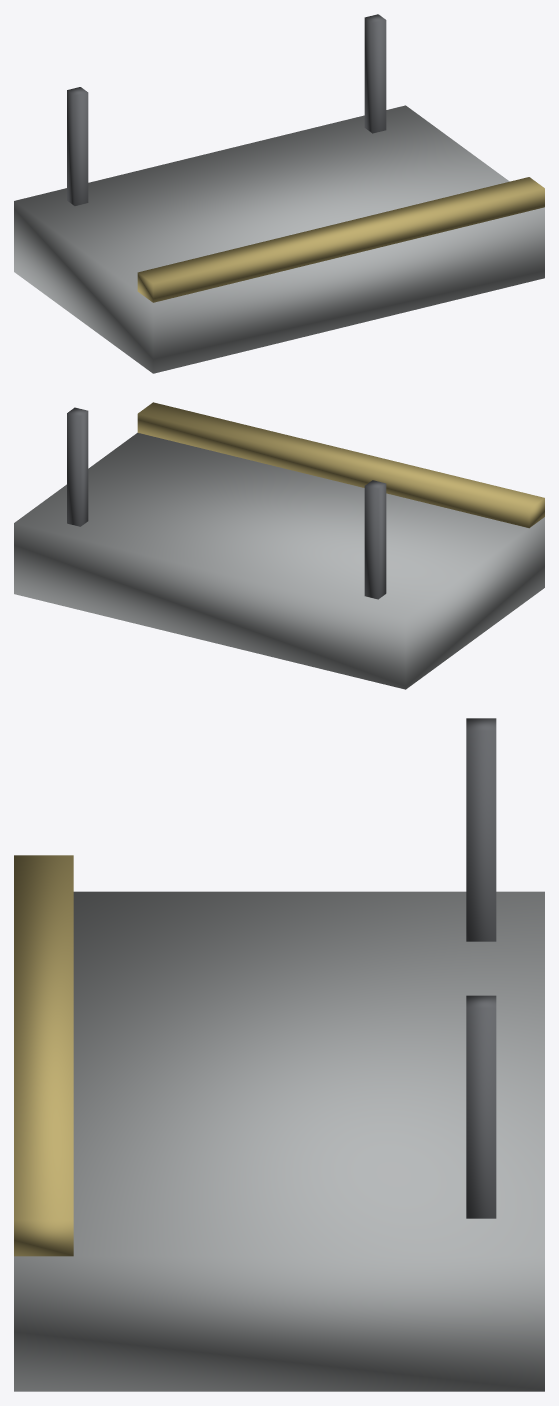
The model's file is loading_dock_16.glb.
3 renders of one model, top to bottom at view 1: azimuth 30°, elevation 25°; view 2: azimuth 150°, elevation 25°; view 3: azimuth 270°, elevation 25°, orthographic. The views are drawn at different scales.
Visible parts, largest first — view 1: world; view 2: world; view 3: world.
Boxes of the visible parts, left/top/right/bottom form: world: left=14, top=14, right=544, bottom=373; world: left=14, top=402, right=544, bottom=689; world: left=14, top=718, right=544, bottom=1391.
Bounding box in the file's own units: 2.6 × 1.15 × 1.6.
